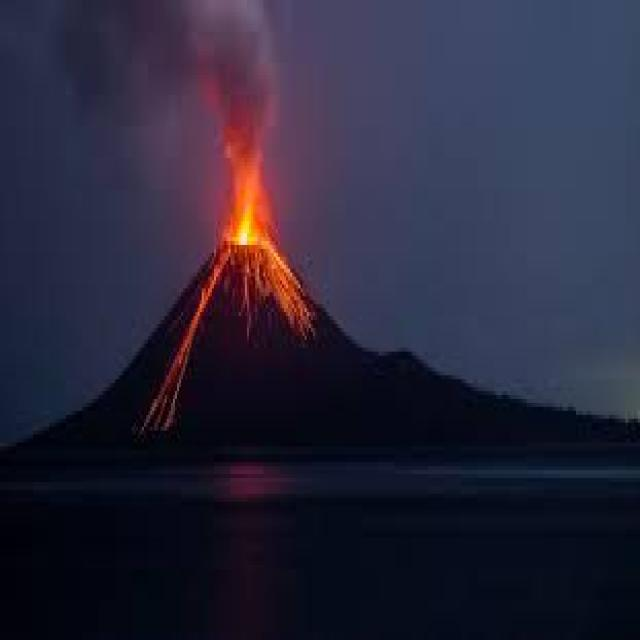explosion: (185, 139, 358, 409)
